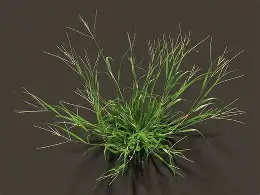weed: (18, 17, 243, 181)
